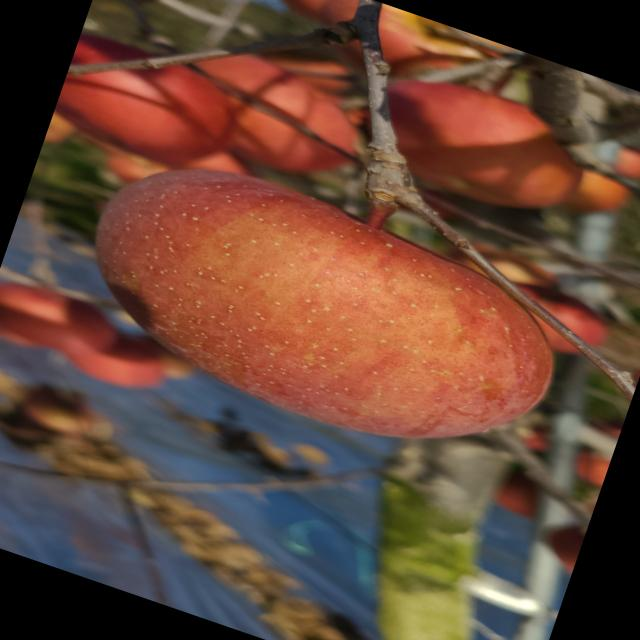fresh: (42, 113, 611, 506)
